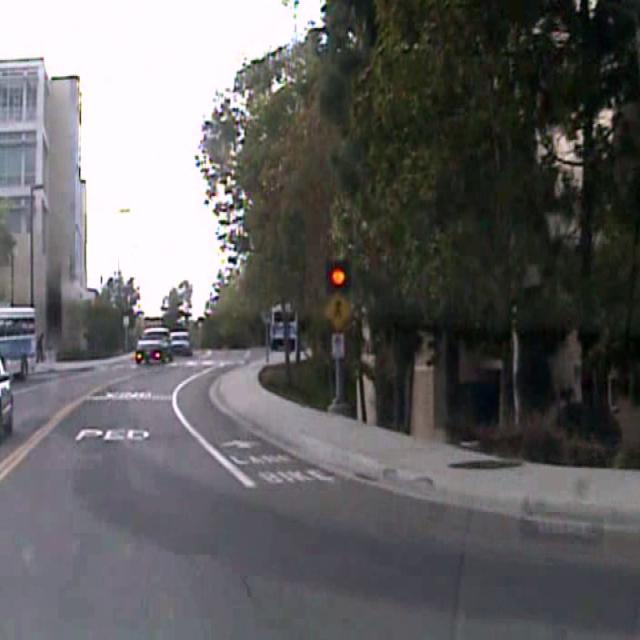pedestrianCrossing: (322, 289, 353, 331)
